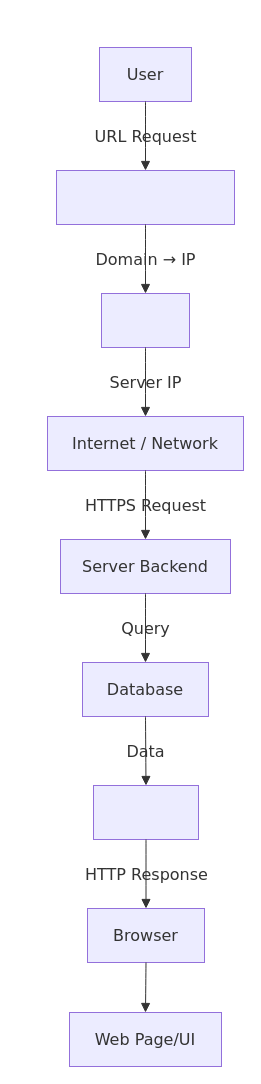
This 261x1084 diagram has some shape labels left out. The centre of each missing label's shape, as x and y in pixels:
Browser / Client: the point at 145,197
DNS: the point at 145,320
Server: the point at 145,812
